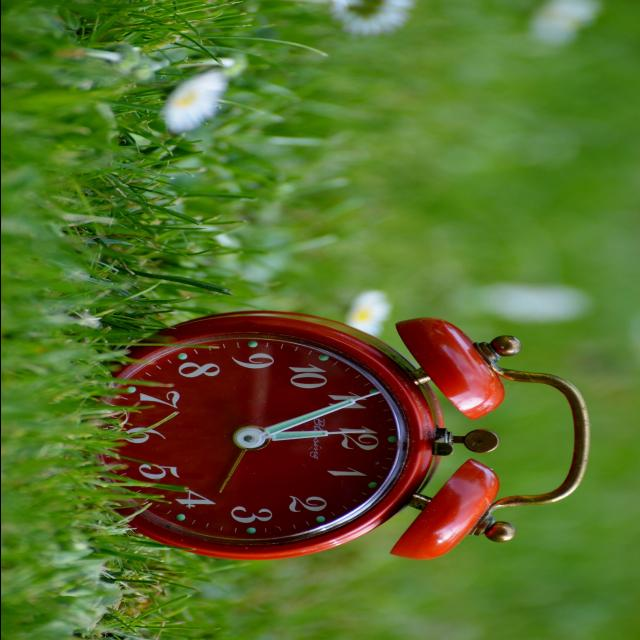clock: (58, 238, 637, 602)
